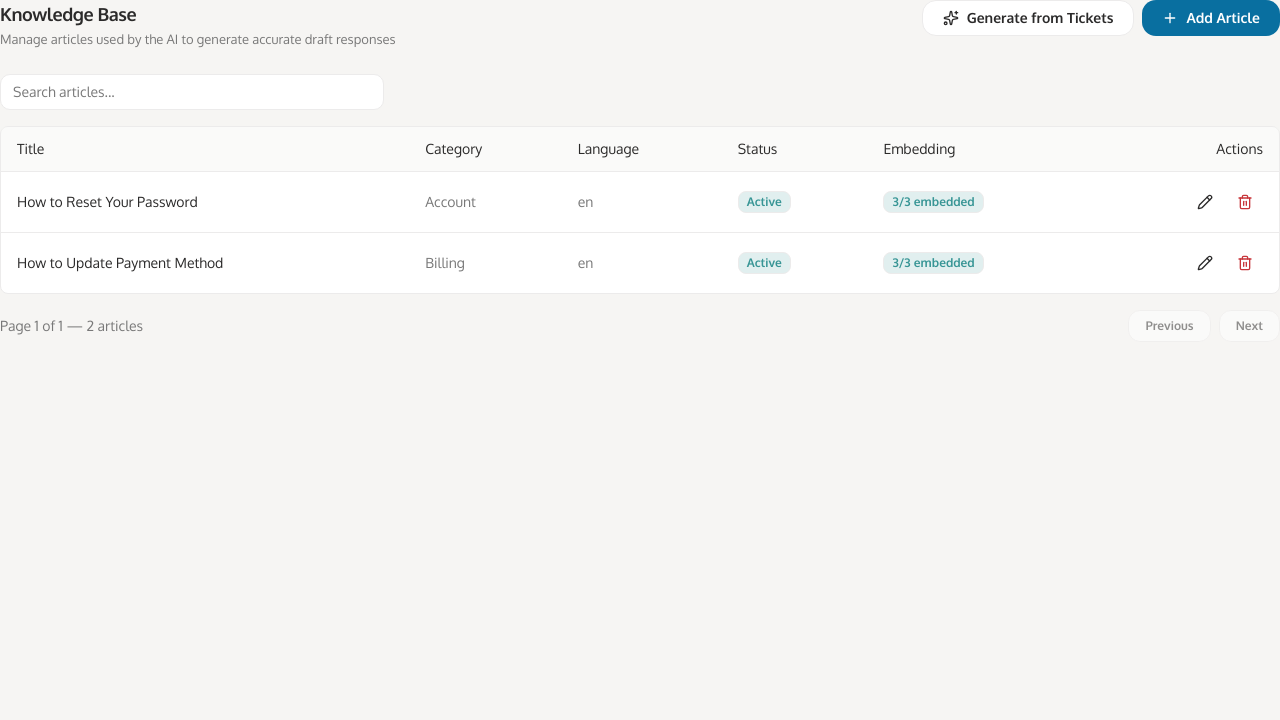
Knowledge Base › opens edit modal with existing data when edit icon is clicked
Expected: the text "How to Reset Your Password" is shown, left=1, top=171, right=409, bottom=232
Note: First edit button
Click the 3rd button.
click(1205, 202)  # box left=1187, top=184, right=1223, bottom=220
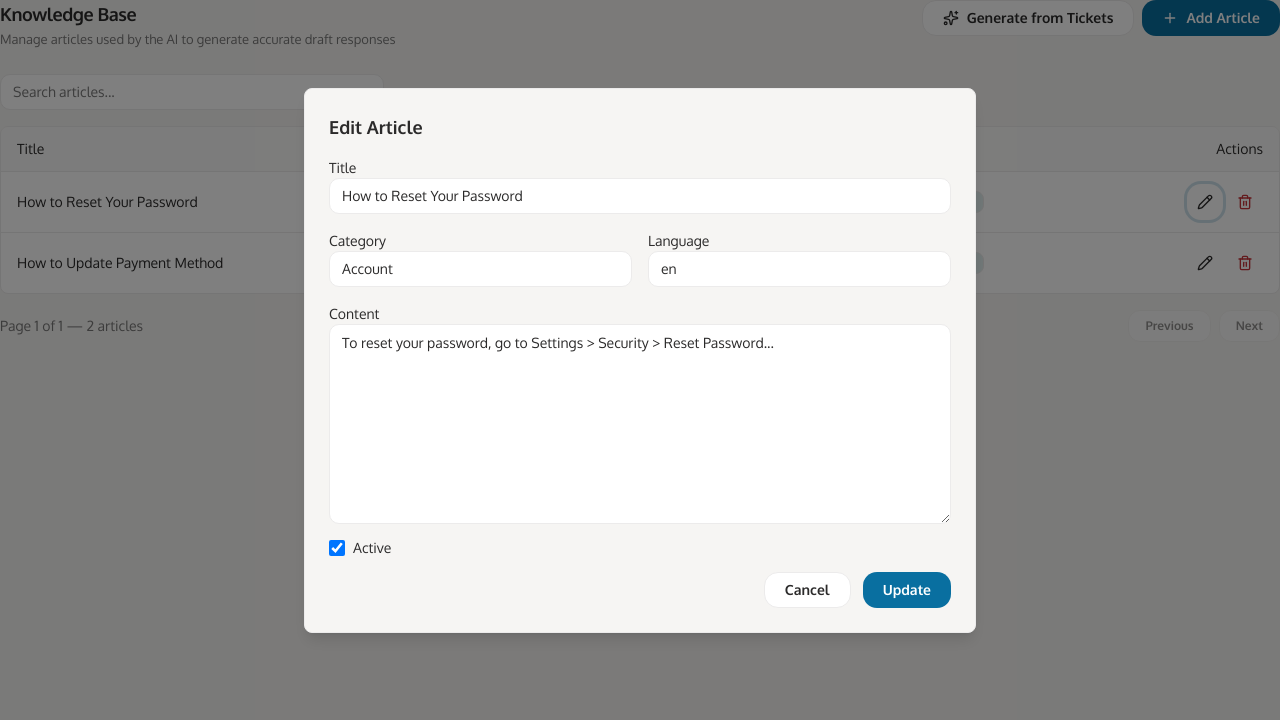
Result: the heading "Edit Article" is shown at left=329, top=116, right=423, bottom=138
Result: the field labelled "Title" holds "How to Reset Your Password" at left=329, top=178, right=951, bottom=214
